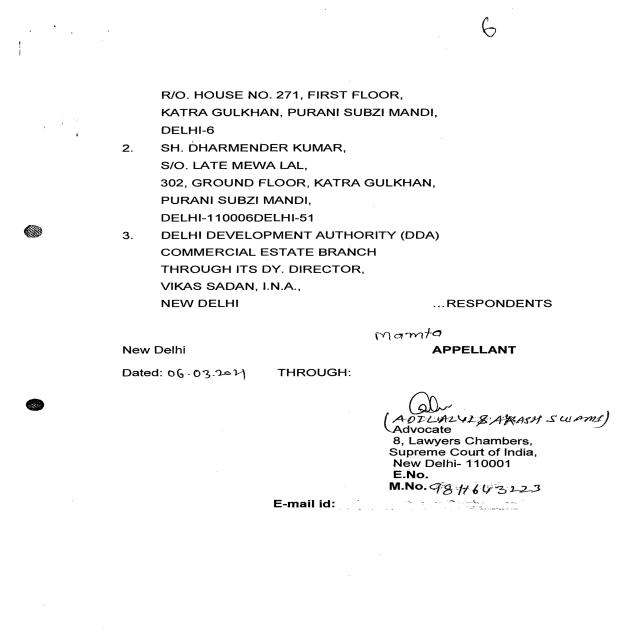page-number: (347, 0, 640, 65)
